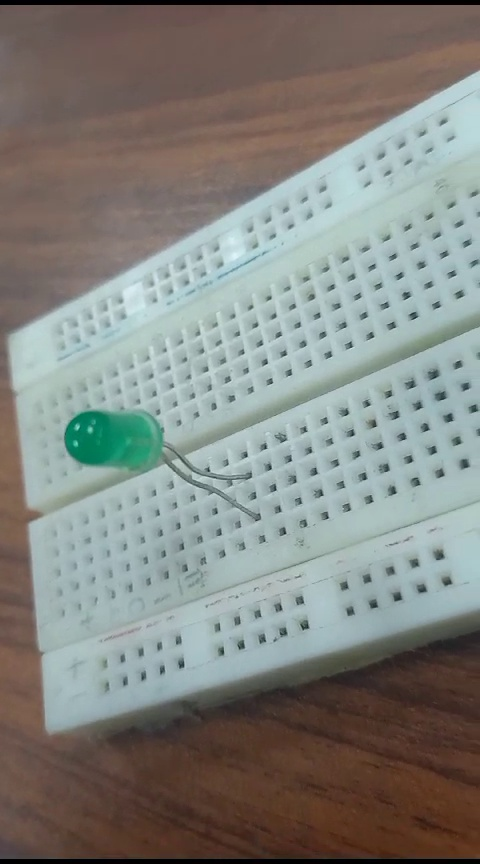LED: (58, 397, 254, 512)
